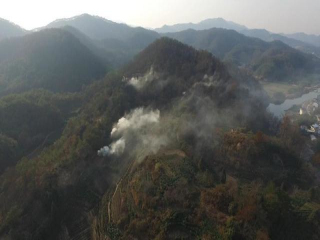smoke: (97, 105, 168, 162), (122, 69, 169, 94)
